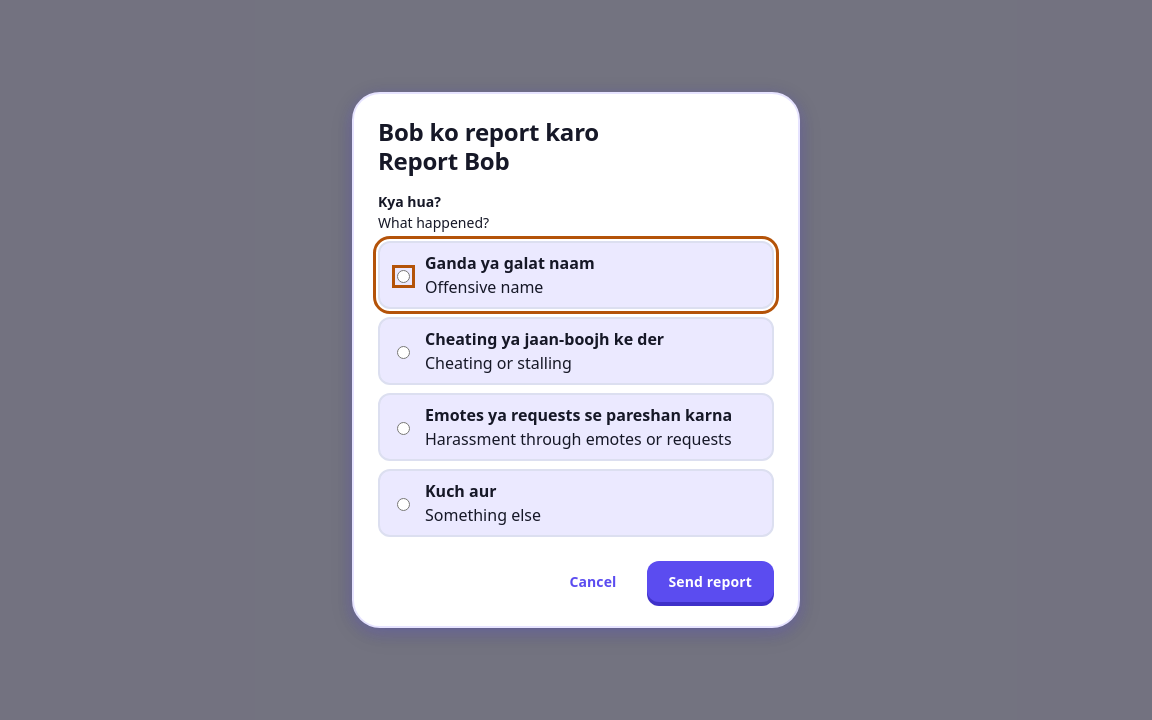
Test case: ReportDialog (CC-044) › shows the server's refusal and keeps the form
This screenshot has width=1152, height=720.
Click the radio button labelled "Ganda ya galat naam Offensive name" at (404, 277), box left=397, top=270, right=410, bottom=283
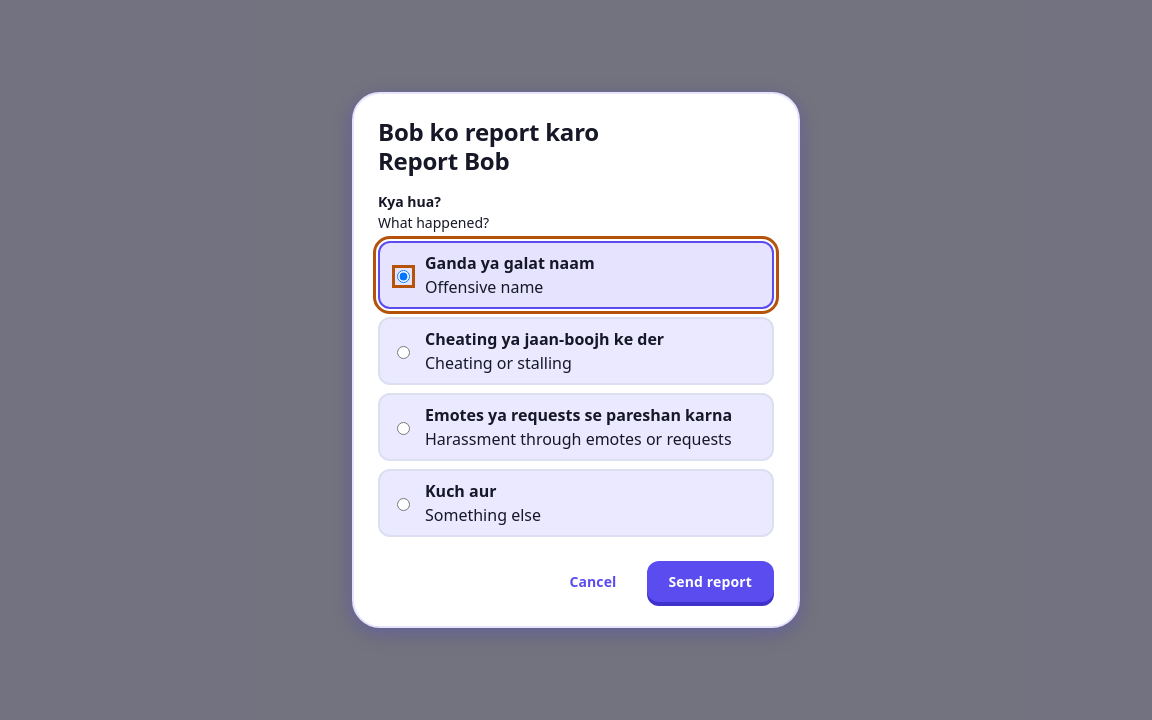
Click the button "Send report" at (710, 582), box left=646, top=561, right=774, bottom=602
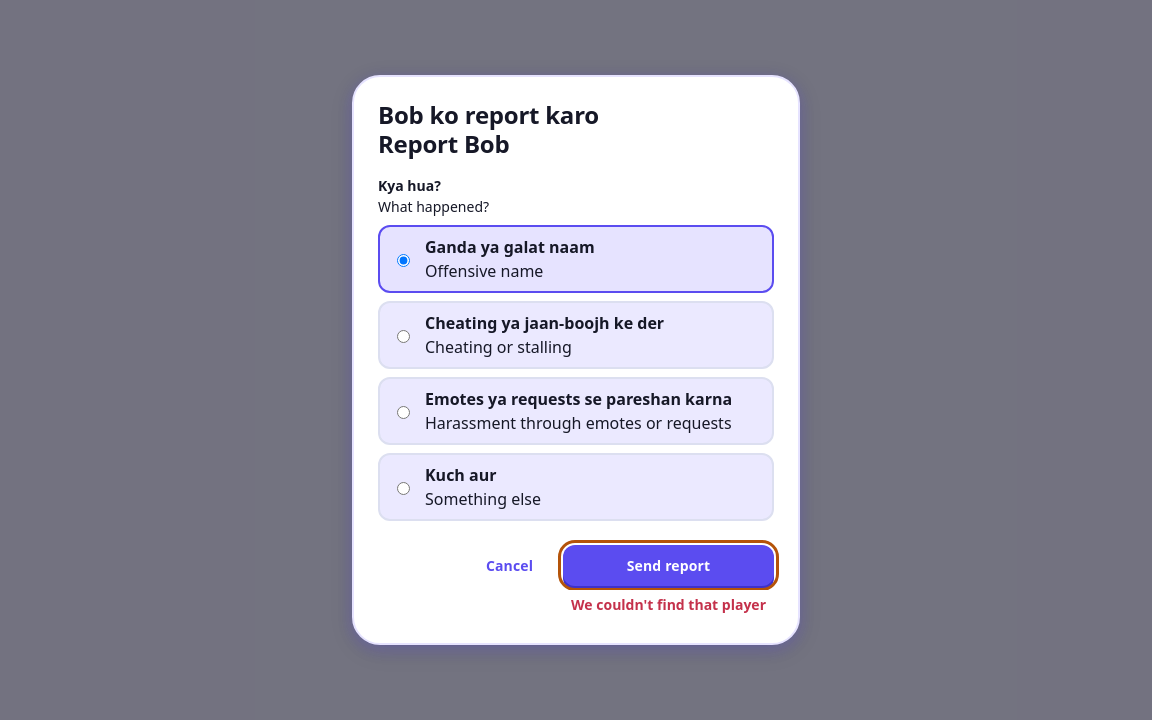
Check: the radio button labelled "Ganda ya galat naam Offensive name" is checked, box left=397, top=254, right=410, bottom=267
Check: the text "We couldn't find that player" is shown, box left=563, top=590, right=774, bottom=619
